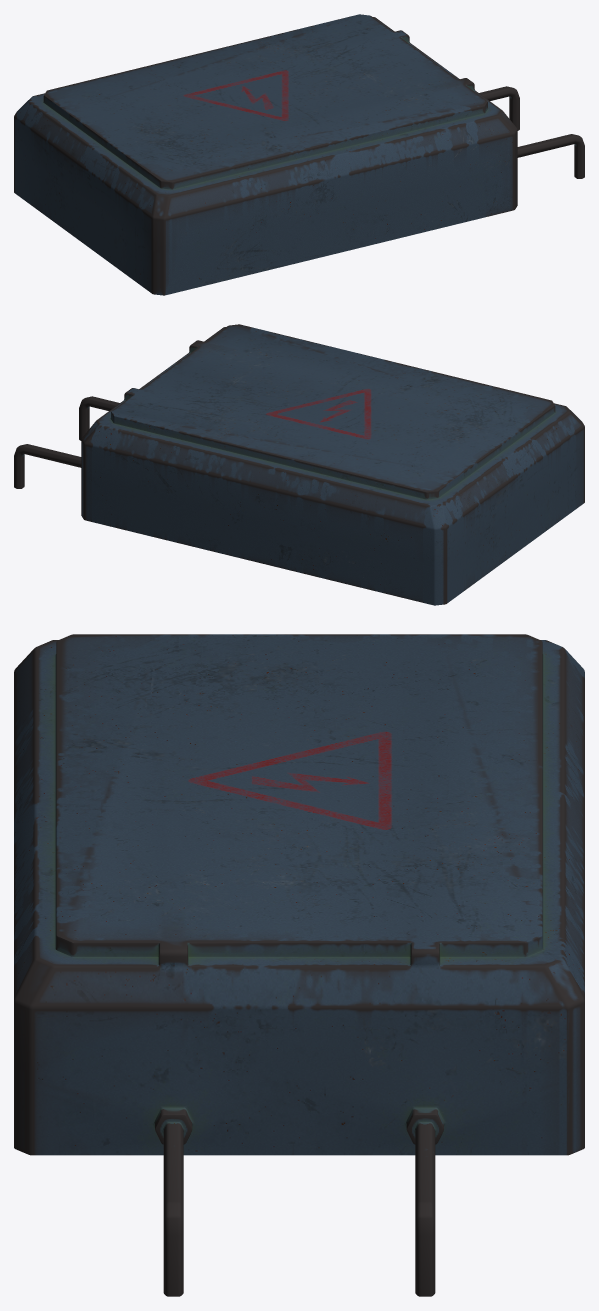
The model's file is electricBox.gltf.
The picture shows the model from 3 angles, top to bottom: view 1: azimuth 30°, elevation 25°; view 2: azimuth 150°, elevation 25°; view 3: azimuth 270°, elevation 25°; orthographic projection. The views are drawn at different scales.
Parts seen in each view (by area): view 1: electricBox; view 2: electricBox; view 3: electricBox.
Boxes of the visible parts, left/top/right/bottom form: electricBox: left=14, top=14, right=584, bottom=295; electricBox: left=14, top=324, right=584, bottom=605; electricBox: left=14, top=634, right=584, bottom=1296.
Size of the model in its own units: 0.6408 by 0.162 by 0.35.
1 material, 1 textured.
